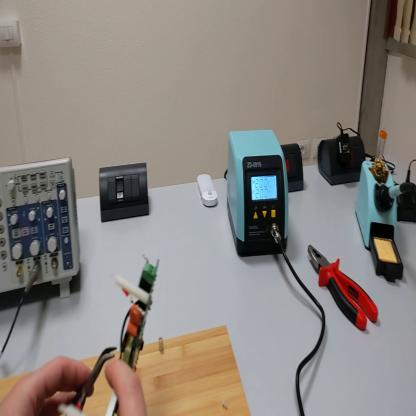electric screwdriver battery: (395, 180, 415, 222)
hand: (3, 357, 90, 416), (104, 356, 147, 414)
low voltage board: (53, 259, 157, 416)
oscilloscope: (3, 158, 81, 310)
pliers: (309, 245, 381, 335), (71, 349, 119, 415)
socket: (319, 135, 369, 186), (281, 145, 304, 194)
welder base: (357, 156, 405, 282)
welder probe tip: (381, 183, 412, 206)
welder station: (230, 133, 289, 257)
working area: (3, 324, 251, 416)
